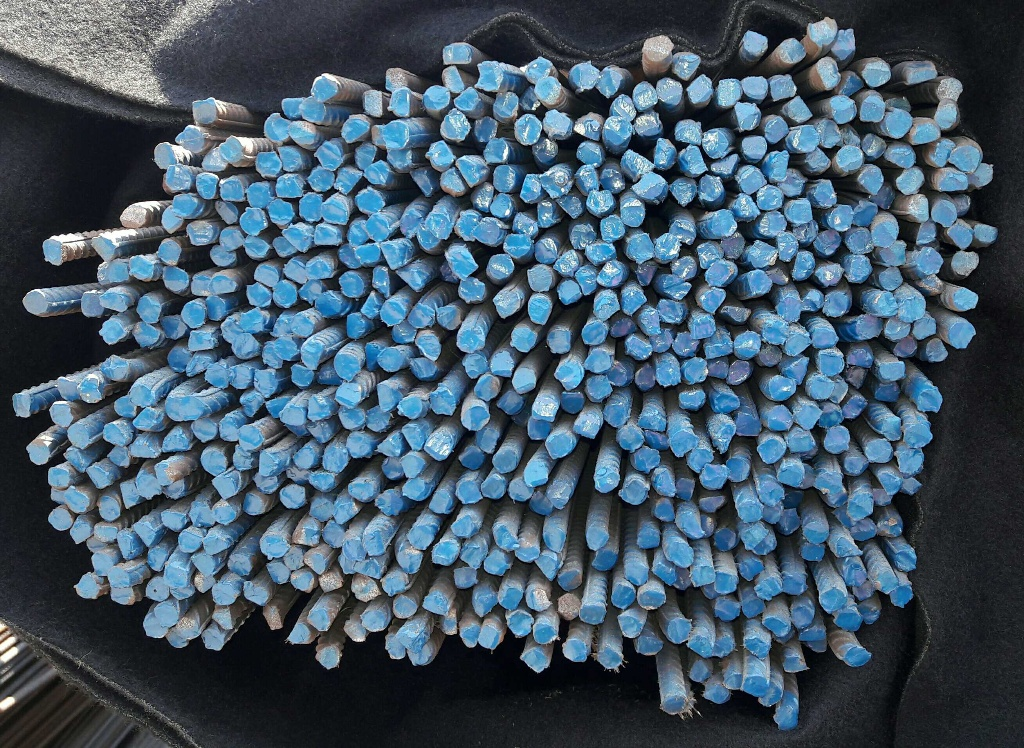dipstick: (632, 172, 666, 203), (872, 211, 899, 247), (447, 249, 477, 279), (575, 111, 605, 141), (844, 225, 874, 254), (897, 445, 923, 478), (706, 260, 737, 287), (883, 142, 916, 167), (477, 61, 505, 90), (442, 112, 470, 141), (737, 166, 766, 194), (896, 167, 925, 195), (808, 18, 838, 45), (885, 109, 913, 137), (263, 113, 290, 142), (231, 332, 260, 359), (351, 574, 380, 601), (896, 294, 925, 321), (778, 168, 805, 197), (515, 114, 541, 144), (905, 60, 936, 85), (240, 208, 267, 236), (604, 117, 631, 145), (845, 255, 872, 283), (861, 60, 889, 87), (356, 190, 385, 216), (734, 331, 760, 360), (670, 430, 699, 456), (748, 241, 777, 267), (777, 37, 806, 63), (340, 118, 370, 143), (574, 165, 599, 195), (736, 101, 761, 131), (951, 146, 981, 171), (98, 261, 129, 285), (815, 57, 839, 88), (133, 408, 165, 431), (321, 198, 348, 225), (493, 91, 520, 118), (99, 319, 127, 345), (457, 157, 482, 186), (673, 119, 702, 144), (816, 119, 841, 148), (912, 118, 941, 143), (902, 424, 932, 448), (310, 76, 337, 102), (136, 296, 162, 323), (315, 291, 342, 317), (201, 449, 227, 476), (425, 434, 452, 460), (383, 121, 409, 148), (570, 63, 596, 90), (546, 432, 573, 458), (670, 177, 696, 204), (703, 130, 729, 157), (688, 447, 715, 473), (824, 426, 850, 453), (876, 470, 903, 496), (775, 296, 801, 323), (916, 247, 942, 274), (950, 321, 977, 347), (830, 97, 856, 124), (252, 369, 277, 397), (323, 444, 348, 472), (475, 218, 503, 243), (502, 232, 530, 257), (620, 198, 645, 226), (682, 147, 707, 175), (677, 510, 702, 538), (671, 53, 700, 77), (457, 210, 479, 241), (832, 27, 854, 58), (282, 227, 308, 253), (408, 303, 434, 329), (570, 224, 596, 250), (633, 445, 659, 471), (656, 78, 682, 104), (697, 242, 723, 268), (847, 492, 873, 518), (715, 79, 741, 105), (934, 101, 960, 127), (316, 143, 341, 170), (347, 431, 372, 458), (440, 168, 465, 195), (543, 110, 568, 137), (597, 261, 624, 286), (629, 234, 654, 261), (794, 404, 821, 429), (784, 331, 811, 356), (783, 357, 808, 384), (813, 229, 840, 254), (273, 280, 297, 308), (99, 355, 127, 379), (338, 405, 366, 429), (457, 328, 485, 352), (429, 140, 453, 168), (620, 480, 648, 504), (757, 439, 785, 463), (864, 438, 892, 462), (932, 200, 956, 228), (786, 97, 814, 121), (764, 115, 788, 143), (860, 94, 884, 122), (644, 36, 673, 59), (654, 139, 677, 168), (396, 269, 426, 291), (166, 165, 191, 191), (255, 152, 281, 177), (22, 291, 48, 316), (187, 220, 213, 245), (163, 266, 189, 291), (339, 272, 364, 298), (333, 354, 359, 379), (335, 383, 361, 408), (376, 489, 402, 514), (416, 334, 441, 360), (335, 169, 361, 194), (426, 213, 452, 238), (577, 141, 603, 166), (553, 250, 579, 275), (494, 291, 520, 316), (621, 288, 647, 313), (625, 335, 651, 360), (687, 76, 712, 102), (700, 288, 725, 314), (882, 239, 907, 265), (952, 251, 978, 276), (936, 78, 962, 103), (791, 125, 816, 151), (267, 200, 294, 224), (133, 322, 160, 346), (377, 433, 404, 457), (379, 301, 406, 325), (423, 86, 450, 110), (655, 233, 679, 260), (657, 299, 684, 323), (850, 517, 877, 541), (756, 186, 783, 210), (859, 166, 883, 193), (288, 121, 316, 144), (461, 407, 489, 430), (401, 210, 424, 238), (525, 59, 553, 82), (598, 69, 621, 97), (633, 81, 656, 109), (519, 173, 542, 201), (528, 297, 551, 325), (740, 76, 768, 99), (937, 170, 969, 190), (766, 151, 787, 181), (300, 97, 325, 122), (233, 445, 258, 470), (489, 254, 514, 279), (599, 216, 624, 241), (527, 266, 552, 291), (511, 327, 536, 352), (494, 525, 519, 550), (655, 360, 680, 385), (727, 359, 752, 384), (743, 524, 768, 549), (947, 225, 972, 250), (219, 137, 243, 163), (90, 237, 114, 263), (308, 167, 334, 191), (238, 425, 262, 451), (430, 389, 454, 415), (366, 214, 390, 240), (459, 278, 485, 302), (612, 95, 636, 121), (498, 391, 524, 415), (508, 611, 532, 637), (558, 362, 582, 388), (669, 541, 693, 567), (817, 350, 843, 374), (822, 292, 848, 316), (829, 205, 853, 231), (836, 146, 862, 170), (120, 205, 147, 228), (299, 194, 322, 221), (491, 351, 514, 378), (635, 112, 662, 135), (557, 593, 580, 620), (699, 174, 722, 201), (815, 469, 842, 492), (846, 345, 873, 368), (587, 192, 615, 214), (586, 242, 614, 264), (575, 267, 597, 295), (583, 350, 611, 372), (787, 430, 815, 452), (389, 88, 410, 117), (793, 251, 814, 280), (179, 127, 204, 151), (128, 257, 153, 281), (239, 308, 263, 333), (211, 500, 236, 524), (146, 576, 170, 601), (154, 602, 178, 627), (143, 612, 167, 637), (164, 565, 189, 589), (366, 407, 391, 431), (436, 306, 461, 330), (454, 87, 479, 111), (582, 321, 607, 345), (523, 462, 547, 487), (672, 332, 697, 356), (779, 464, 804, 488), (808, 375, 833, 399), (819, 588, 844, 612), (873, 570, 897, 595), (917, 387, 942, 411), (760, 211, 785, 235), (787, 199, 811, 224), (153, 143, 176, 169), (201, 148, 227, 171), (246, 283, 272, 306), (211, 477, 237, 500), (131, 522, 154, 548), (260, 534, 286, 557), (323, 521, 346, 547), (407, 526, 433, 549), (404, 478, 430, 501), (398, 396, 424, 419), (378, 348, 404, 371), (535, 76, 561, 99), (522, 650, 548, 673), (562, 639, 588, 662), (534, 553, 557, 579), (713, 210, 736, 236), (684, 356, 707, 382), (700, 465, 726, 488), (667, 617, 690, 643), (735, 193, 758, 219), (856, 315, 882, 338), (451, 516, 478, 538), (377, 383, 399, 410), (410, 357, 437, 379), (494, 166, 516, 193), (664, 276, 691, 298), (689, 316, 716, 338), (876, 515, 903, 537), (816, 263, 843, 285), (162, 205, 183, 233), (275, 177, 303, 198), (442, 65, 463, 93), (677, 389, 705, 410), (716, 423, 736, 452), (246, 183, 270, 207), (158, 241, 182, 265), (278, 147, 302, 171), (205, 364, 229, 388), (179, 396, 203, 420), (281, 484, 305, 508), (75, 574, 99, 598), (473, 592, 497, 616), (484, 138, 508, 162), (611, 584, 635, 608), (603, 401, 627, 425), (595, 294, 619, 318), (192, 101, 217, 124), (181, 303, 204, 328), (284, 259, 307, 284), (102, 423, 127, 446), (308, 395, 333, 418), (189, 554, 214, 577), (432, 541, 457, 564), (460, 544, 485, 567), (459, 446, 484, 469), (392, 319, 417, 342), (475, 376, 498, 401), (474, 117, 497, 142), (600, 169, 625, 192), (509, 477, 534, 500), (580, 602, 605, 625), (587, 376, 612, 399), (670, 221, 695, 244), (671, 256, 696, 279), (735, 414, 760, 437), (651, 563, 676, 586), (768, 405, 791, 430), (763, 319, 788, 342), (195, 173, 217, 199), (314, 223, 340, 245), (301, 342, 323, 368), (513, 368, 535, 394), (596, 647, 622, 669), (618, 427, 644, 449), (738, 558, 764, 580), (770, 377, 796, 399), (814, 180, 836, 206), (168, 346, 189, 373), (403, 424, 424, 451), (355, 144, 376, 171), (99, 293, 127, 313), (386, 148, 414, 168), (809, 327, 837, 347), (778, 232, 798, 260), (372, 266, 390, 297), (214, 201, 238, 224), (172, 194, 196, 217), (81, 293, 104, 317), (219, 227, 243, 250), (57, 377, 80, 401), (28, 440, 51, 464), (137, 475, 161, 498), (242, 492, 266, 515), (316, 645, 340, 668), (398, 550, 422, 573), (481, 475, 505, 498), (463, 354, 487, 377), (364, 162, 388, 185), (491, 194, 514, 218), (534, 239, 557, 263), (558, 281, 581, 305), (543, 528, 566, 552), (637, 525, 660, 549), (725, 458, 749, 481), (739, 501, 763, 524), (443, 44, 472, 63), (192, 418, 217, 440), (211, 583, 236, 605), (244, 583, 269, 605), (484, 552, 506, 577), (688, 659, 713, 681), (715, 598, 740, 620), (804, 521, 829, 543), (953, 287, 978, 309), (885, 318, 910, 340), (743, 31, 768, 53), (244, 235, 270, 256), (79, 377, 100, 403), (189, 506, 215, 527), (655, 471, 676, 497), (778, 509, 799, 535), (908, 195, 929, 221), (210, 245, 237, 265), (305, 259, 332, 279), (188, 330, 215, 350), (109, 585, 136, 605), (397, 631, 424, 651), (385, 632, 405, 659), (381, 242, 401, 269), (363, 90, 383, 117), (531, 402, 558, 422), (208, 276, 236, 295), (299, 280, 322, 303), (274, 338, 297, 361), (291, 364, 314, 387), (50, 403, 73, 426), (49, 508, 72, 531), (91, 552, 114, 575), (291, 570, 314, 593), (333, 501, 356, 524), (429, 491, 452, 514), (547, 330, 570, 353), (618, 616, 641, 639), (585, 527, 608, 550), (530, 491, 553, 514), (596, 470, 619, 493), (759, 482, 782, 505), (843, 562, 866, 585), (743, 136, 766, 159), (219, 179, 243, 201), (65, 491, 89, 513), (98, 497, 120, 521), (393, 595, 417, 617), (401, 455, 425, 477), (457, 481, 481, 503), (547, 486, 569, 510), (775, 705, 797, 729), (689, 635, 713, 657), (792, 605, 814, 629), (747, 271, 771, 293), (806, 149, 828, 173), (863, 133, 885, 157), (254, 266, 279, 287), (423, 594, 448, 615), (347, 219, 368, 244), (612, 317, 637, 338), (743, 675, 768, 696), (799, 541, 824, 562), (42, 240, 62, 266), (119, 483, 139, 509), (259, 451, 279, 477), (161, 511, 187, 531), (203, 535, 229, 555), (638, 412, 664, 432), (756, 577, 782, 597), (293, 446, 316, 468), (364, 532, 386, 555), (381, 458, 404, 480), (528, 418, 551, 440), (526, 589, 549, 611), (574, 416, 597, 438), (714, 528, 736, 551), (843, 396, 866, 418), (925, 339, 948, 361), (162, 433, 190, 451), (87, 467, 111, 488), (178, 531, 202, 552), (343, 540, 367, 561), (452, 567, 476, 588), (494, 450, 518, 471), (476, 429, 497, 453), (557, 569, 581, 590), (714, 392, 738, 413), (744, 636, 768, 657), (763, 617, 791, 635), (781, 573, 805, 594), (881, 415, 902, 439), (876, 381, 900, 402), (68, 424, 88, 449), (355, 244, 380, 264), (845, 647, 870, 667), (836, 611, 861, 631), (893, 337, 918, 357), (348, 482, 374, 501), (165, 396, 184, 422), (836, 537, 862, 556), (309, 473, 336, 491), (500, 587, 522, 609), (625, 563, 647, 585), (562, 392, 584, 414), (649, 331, 671, 353), (874, 293, 896, 315), (205, 297, 226, 320), (292, 313, 313, 336), (228, 555, 251, 576), (267, 562, 290, 583), (304, 552, 325, 575), (479, 626, 500, 649), (707, 684, 730, 705), (691, 565, 714, 586), (891, 584, 914, 605), (272, 236, 296, 256), (254, 473, 278, 493), (638, 636, 662, 656), (593, 550, 617, 570), (279, 408, 304, 427), (635, 365, 654, 390), (661, 696, 686, 715), (639, 591, 665, 609), (130, 385, 152, 406), (177, 617, 198, 639), (308, 609, 329, 631), (760, 682, 781, 704), (715, 572, 737, 593), (880, 266, 901, 288), (230, 366, 250, 389), (219, 418, 239, 441), (362, 611, 385, 631), (741, 597, 764, 617), (382, 576, 406, 595), (844, 457, 869, 475), (168, 627, 189, 648), (385, 68, 406, 89), (802, 289, 823, 310), (108, 567, 130, 587), (202, 630, 224, 650), (289, 623, 309, 645), (533, 623, 555, 643), (675, 479, 695, 501), (114, 399, 137, 418), (13, 393, 31, 417), (318, 573, 342, 591), (879, 362, 904, 379), (282, 98, 303, 118), (155, 464, 175, 485), (654, 500, 674, 521), (895, 550, 915, 571), (147, 549, 166, 571), (461, 625, 480, 647), (346, 315, 363, 339), (701, 496, 725, 513), (714, 636, 734, 656), (191, 275, 210, 296), (48, 468, 69, 487), (344, 623, 366, 641), (974, 224, 996, 242), (800, 627, 826, 642), (782, 656, 806, 672), (212, 611, 232, 630), (71, 525, 91, 543), (128, 443, 156, 455), (516, 547, 538, 562), (724, 674, 741, 689)
